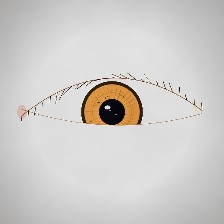pterygium_lesion: (168, 99, 200, 125)
